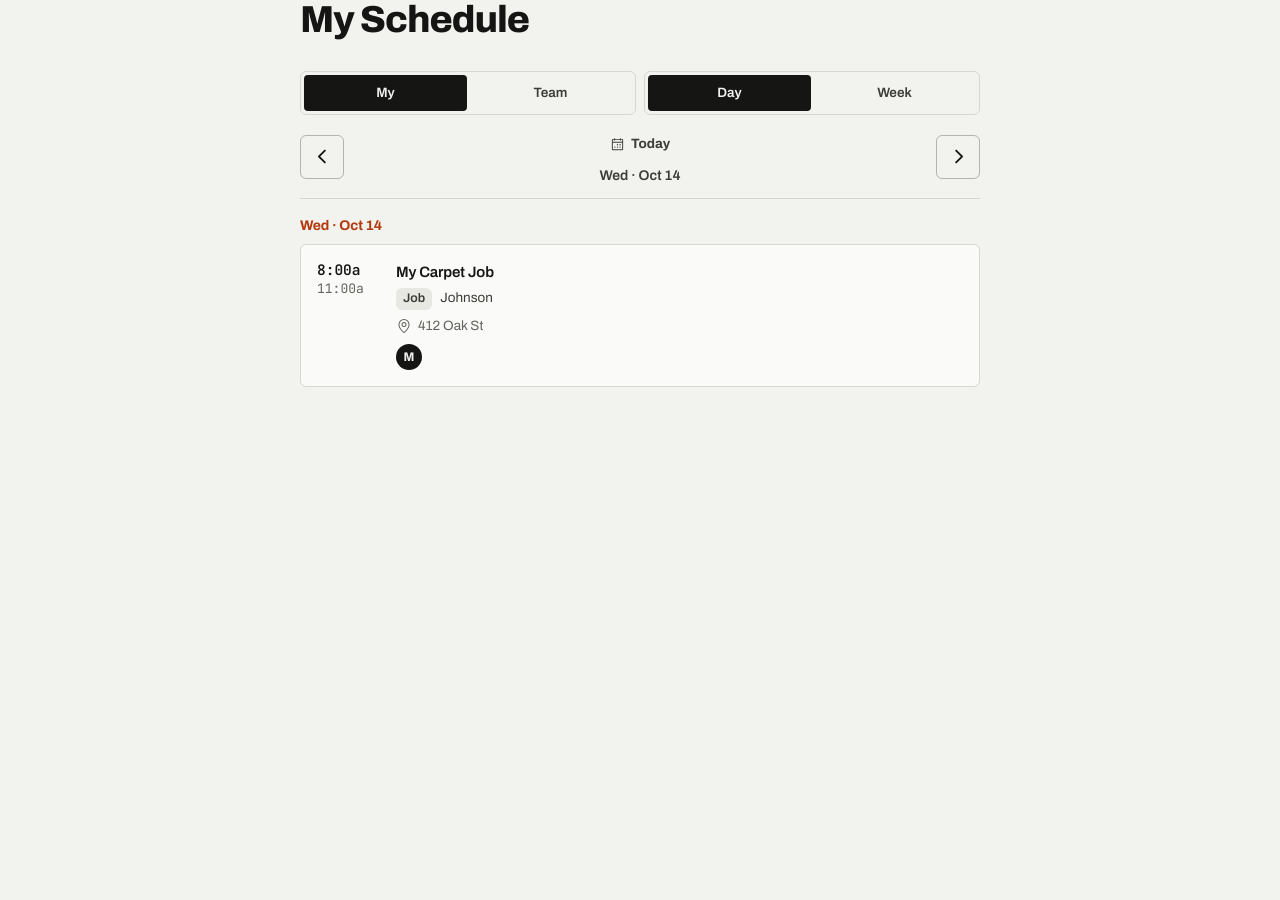
Test: MyScheduleView › tapping an event opens the job card
Click the text "My Carpet Job" at [445, 272], box [396, 264, 494, 280]
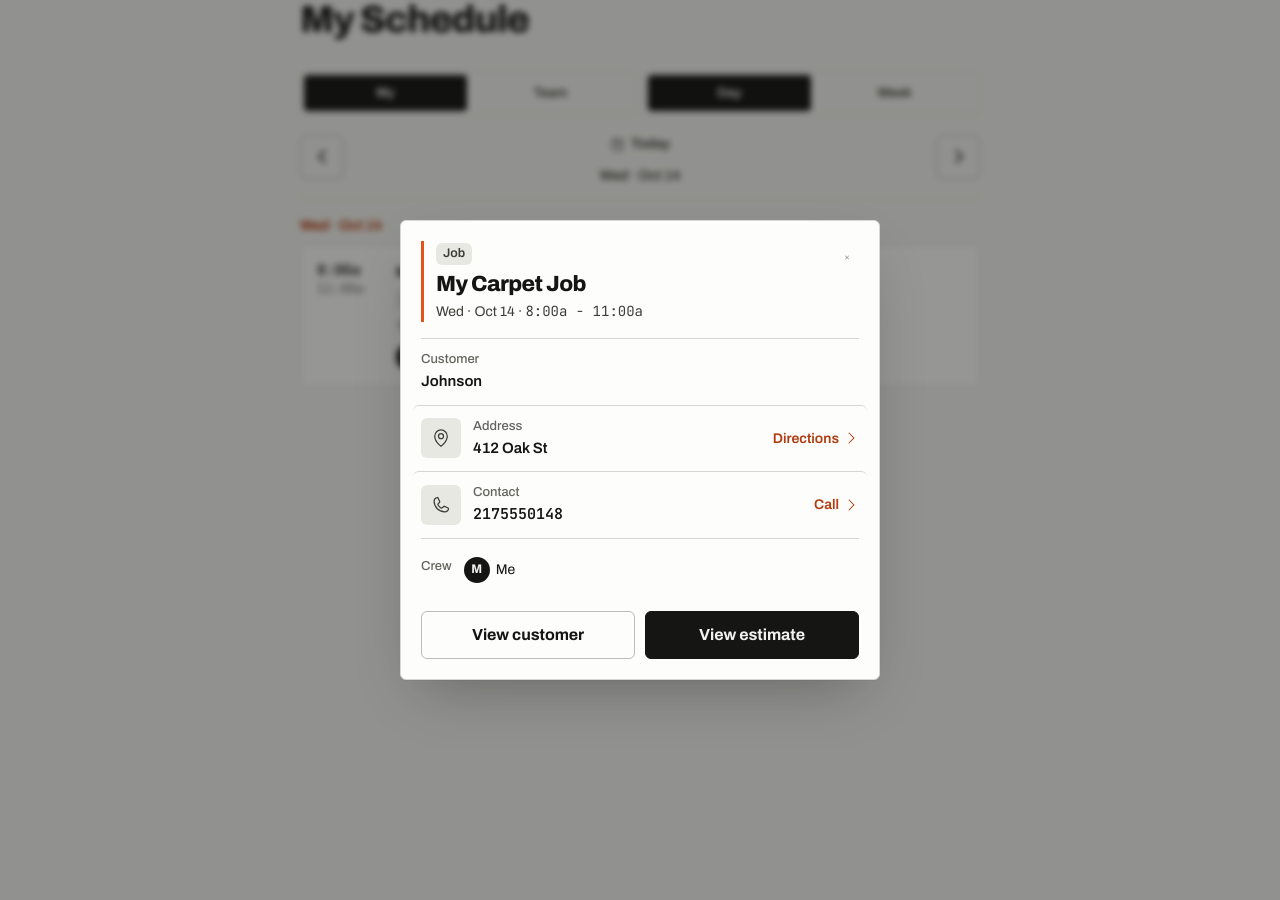
Expected: the dialog is shown, [400, 220, 880, 680]
Expected: the link "View estimate" is shown, [645, 610, 859, 658]
